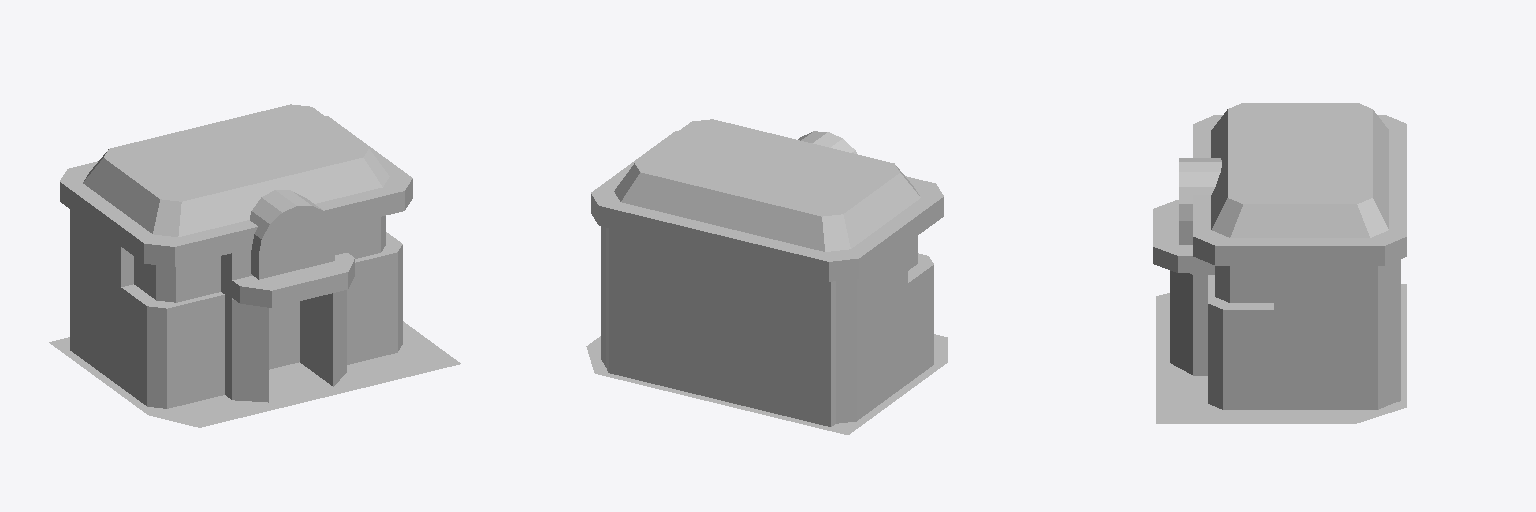
The model's file is Pokémon Center.obj.
The picture shows the model from 3 angles: view 1: azimuth 30°, elevation 25°; view 2: azimuth 150°, elevation 25°; view 3: azimuth 270°, elevation 25°; orthographic projection.
Parts seen in each view (by area): view 1: Pokémon_Center; view 2: Pokémon_Center; view 3: Pokémon_Center.
Part boxes in pixels (bbox=[...]): Pokémon_Center: bbox=[49, 104, 460, 427]; Pokémon_Center: bbox=[586, 119, 947, 434]; Pokémon_Center: bbox=[1153, 103, 1406, 423].
Bounding box in the file's own units: 13.06 × 8.49 × 10.01.